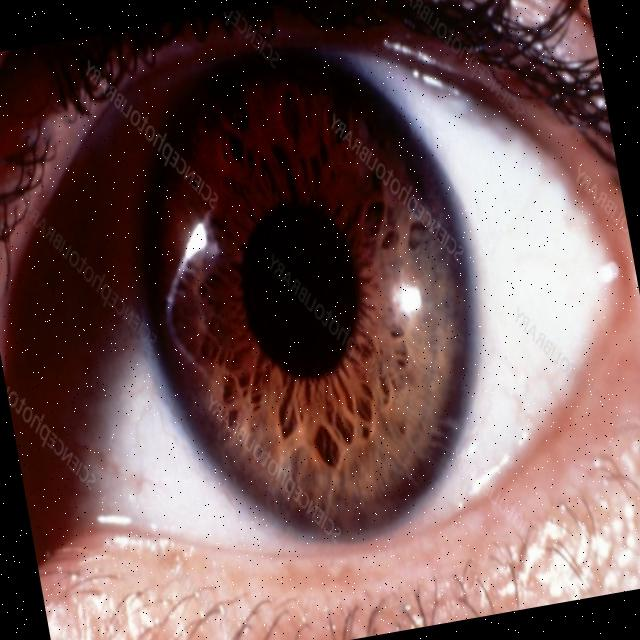Normal: (0, 8, 635, 574)
